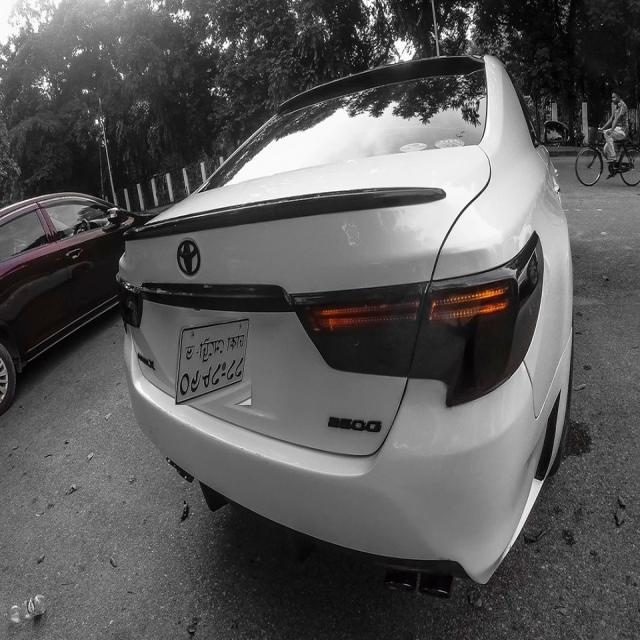numberplate: (175, 318, 251, 406)
